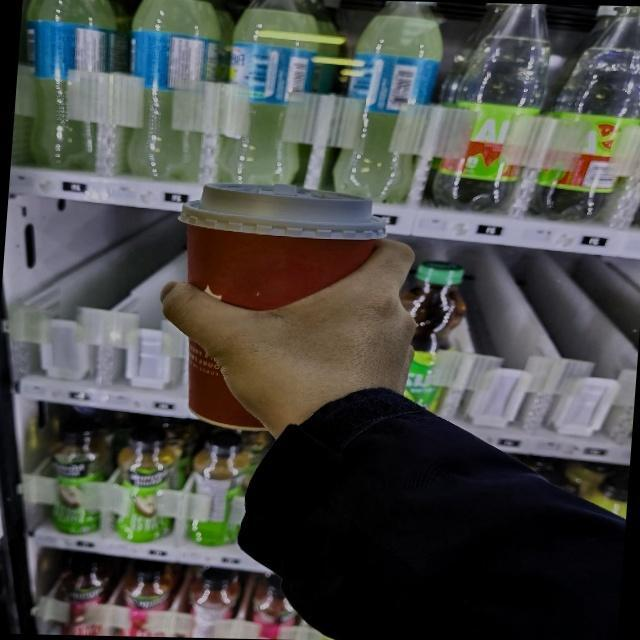timmies: (160, 178, 399, 438)
